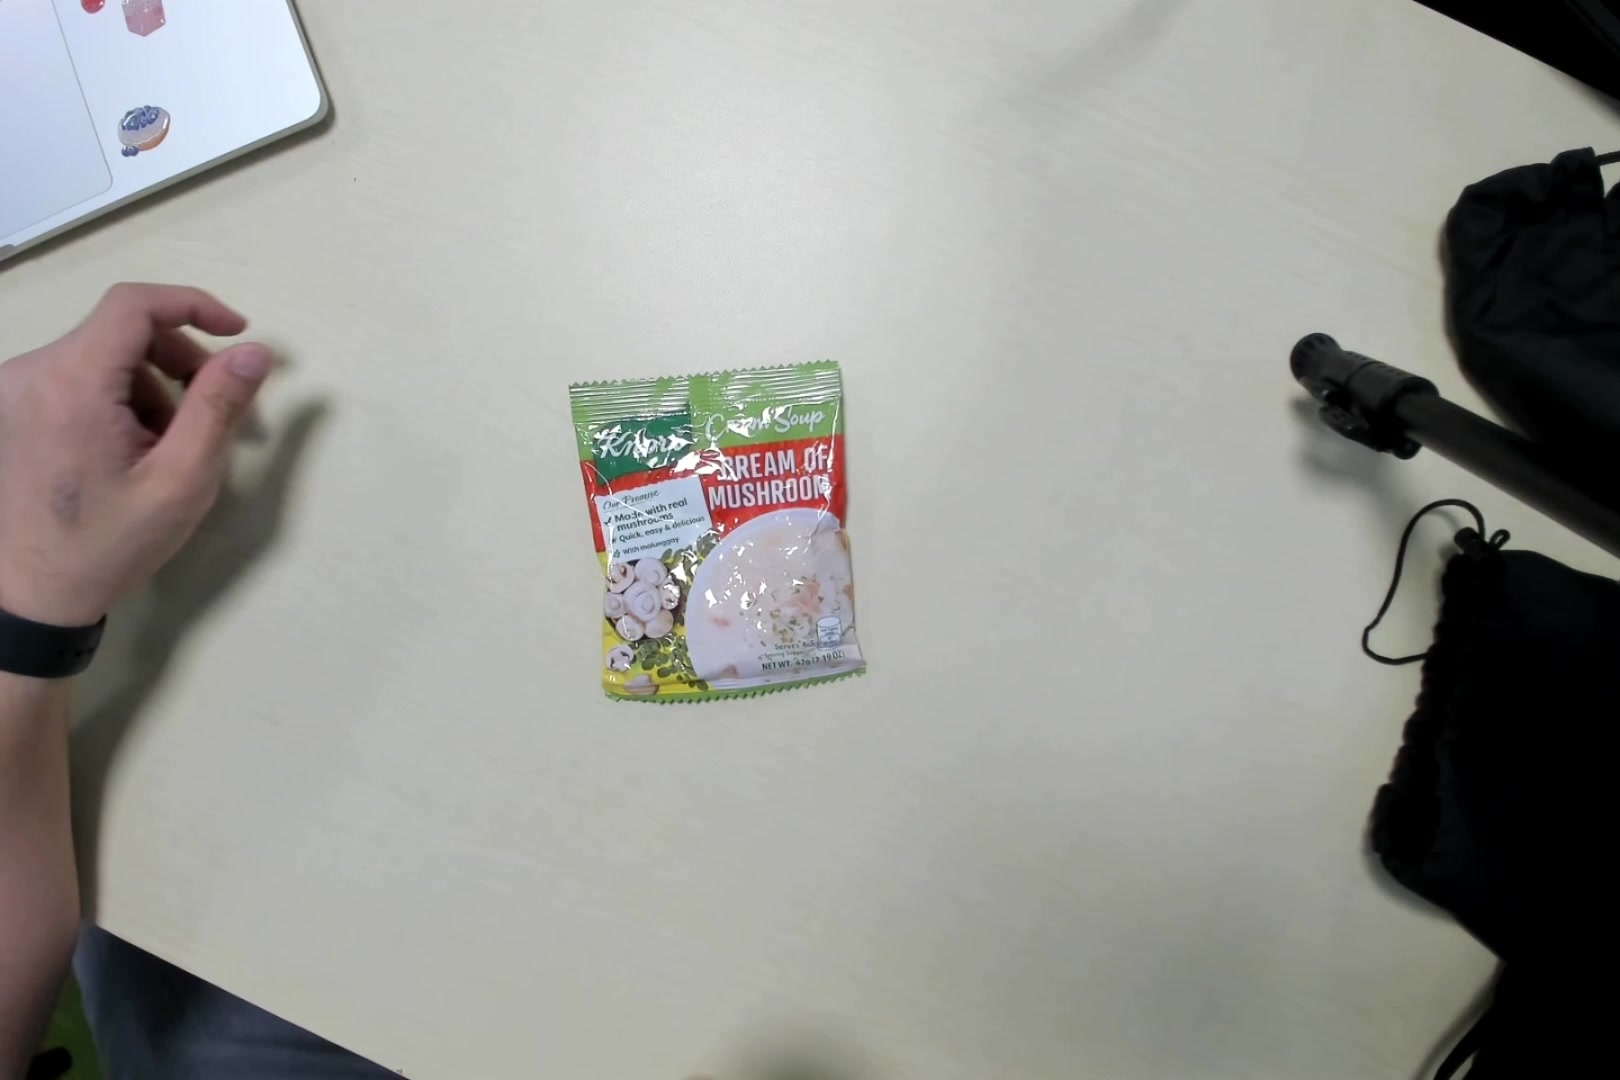OtherBakingNeeds_0-99g_NonHalal_NonHealthy: (568, 360, 865, 706)
